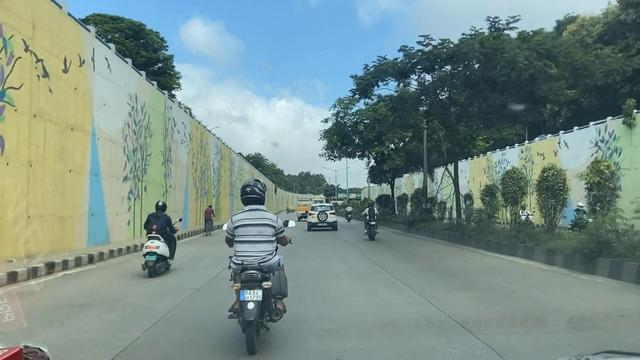LMV: (226, 177, 288, 336), (139, 199, 177, 270), (307, 202, 336, 230), (363, 200, 380, 244)
